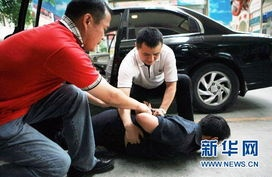falling: (66, 93, 236, 161)
